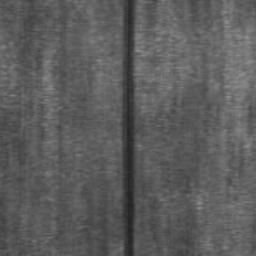Scratches: (122, 0, 137, 256)
